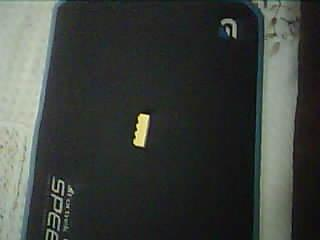lego: (132, 112, 151, 148)
